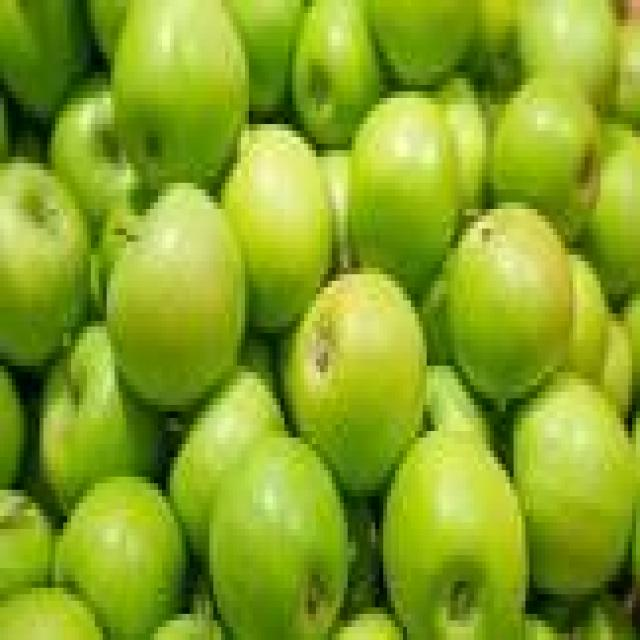apple: (281, 268, 426, 496), (107, 183, 244, 411), (384, 432, 529, 639), (514, 373, 636, 600), (210, 438, 347, 639), (111, 0, 248, 189), (447, 203, 572, 404), (40, 327, 165, 515), (348, 92, 462, 293), (222, 125, 331, 333), (170, 366, 284, 561), (56, 477, 185, 639), (0, 157, 90, 365), (490, 72, 600, 241), (293, 0, 383, 150), (52, 79, 138, 235), (0, 0, 90, 117), (518, 0, 616, 104), (226, 0, 308, 117), (581, 138, 639, 300), (368, 0, 478, 84), (439, 79, 489, 215), (0, 490, 55, 600), (91, 203, 142, 313), (0, 588, 106, 639), (565, 255, 608, 378), (427, 366, 493, 444), (340, 503, 383, 613), (467, 0, 517, 91), (320, 151, 355, 274), (419, 262, 454, 365), (0, 366, 27, 489), (601, 314, 632, 417), (573, 595, 636, 639), (87, 0, 130, 58), (617, 20, 639, 124), (332, 608, 402, 639), (241, 334, 276, 391), (621, 294, 639, 398), (155, 614, 225, 639), (12, 118, 47, 163), (629, 490, 639, 587), (522, 614, 560, 639), (0, 92, 11, 163)
